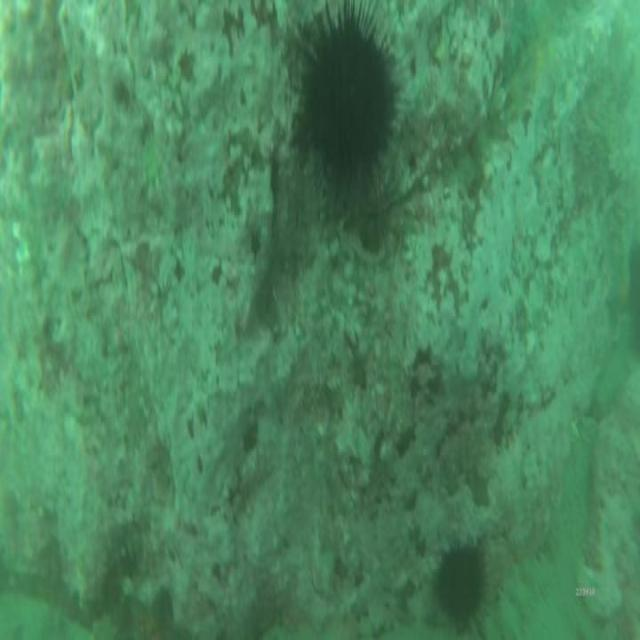echinus: (310, 19, 392, 171), (438, 545, 483, 629)
